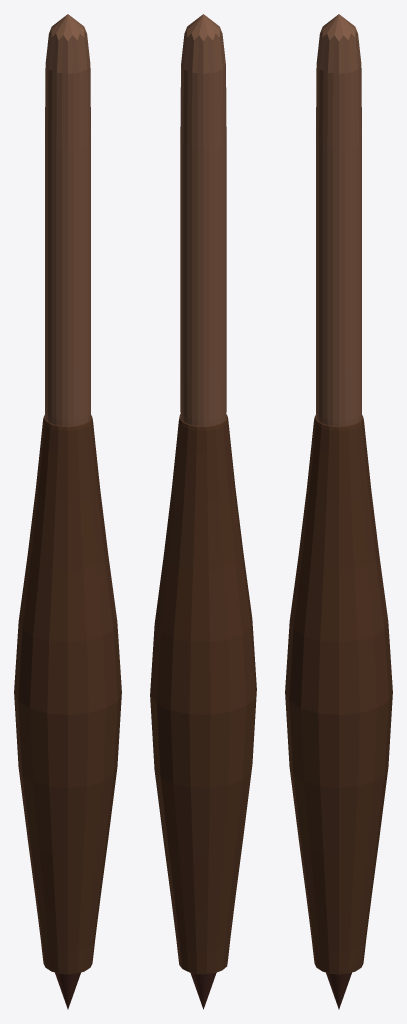
Rendered from Wand 112.glb.
3 views of the same model, side by side, from view 1: azimuth 90°, elevation 25°; view 2: azimuth 210°, elevation 25°; view 3: azimuth 270°, elevation 25° (orthographic).
Parts seen in each view (by area): view 1: GeneratedWand; view 2: GeneratedWand; view 3: GeneratedWand.
Boxes of the visible parts, bbox=[...] form: GeneratedWand: bbox=[14, 14, 121, 1009]; GeneratedWand: bbox=[150, 14, 256, 1009]; GeneratedWand: bbox=[285, 14, 392, 1009].
Bounding box in the file's own units: 0.0499 × 0.5076 × 0.0499.
